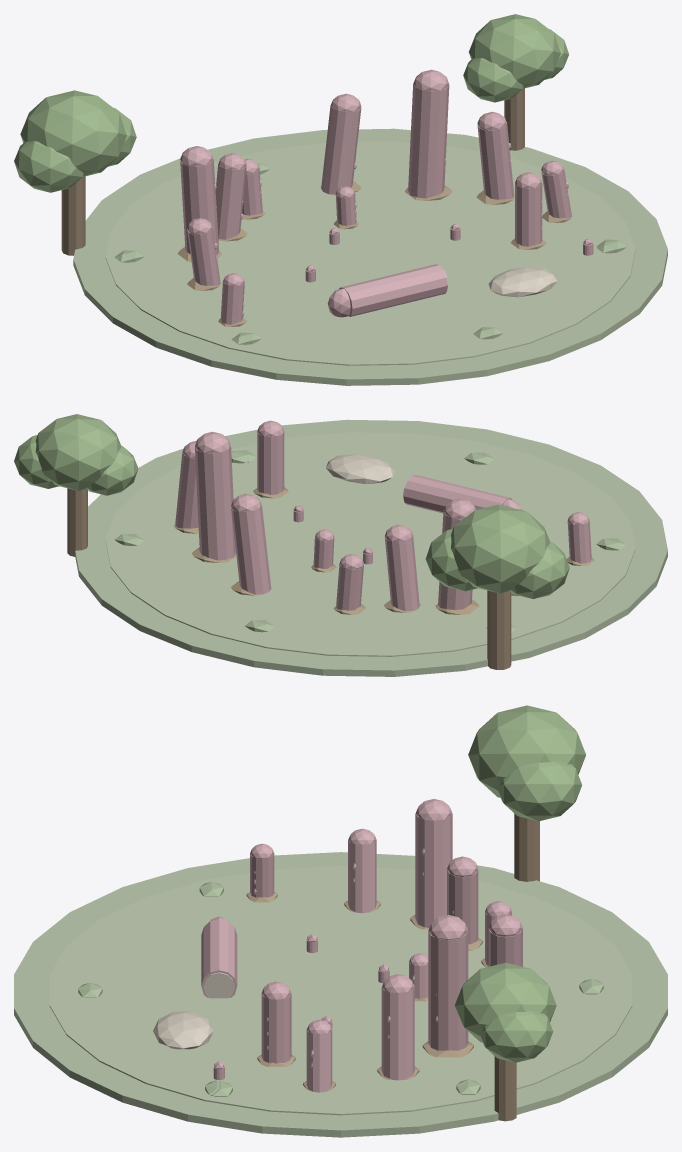
File: sausage.glb
The picture shows the model from 3 angles, top to bottom: view 1: azimuth 30°, elevation 25°; view 2: azimuth 150°, elevation 25°; view 3: azimuth 270°, elevation 25°; orthographic projection. The views are drawn at different scales.
Parts seen in each view (by area): view 1: part_05, part_07, part_04, part_00, part_01, part_03, part_09, part_02; view 2: part_05, part_04, part_07, part_00, part_01, part_09, part_03, part_02; view 3: part_05, part_04, part_07, part_00, part_01, part_09, part_02, part_03.
Boxes of the visible parts, x1,y1,x2,y2 form: part_05: [105, 141, 635, 365]; part_07: [180, 69, 593, 324]; part_04: [73, 128, 667, 385]; part_00: [14, 14, 568, 192]; part_01: [61, 88, 524, 255]; part_03: [177, 181, 571, 326]; part_09: [441, 267, 557, 297]; part_02: [114, 163, 626, 344]; part_05: [105, 432, 635, 656]; part_04: [75, 419, 667, 676]; part_07: [175, 420, 591, 611]; part_00: [14, 414, 569, 598]; part_01: [67, 488, 511, 669]; part_09: [326, 454, 409, 500]; part_03: [174, 487, 594, 614]; part_02: [114, 450, 626, 632]; part_05: [49, 866, 632, 1115]; part_04: [14, 852, 667, 1137]; part_07: [201, 799, 522, 1092]; part_00: [454, 705, 585, 1062]; part_01: [494, 813, 539, 1121]; part_09: [153, 972, 234, 1049]; part_02: [78, 881, 603, 1096]; part_03: [246, 892, 488, 1091].
Size of the model in its own units: 19.49 by 5.28 by 18.27.
